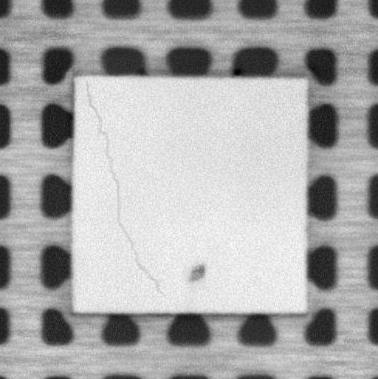DIE_CRACK: (84, 79, 166, 298)
